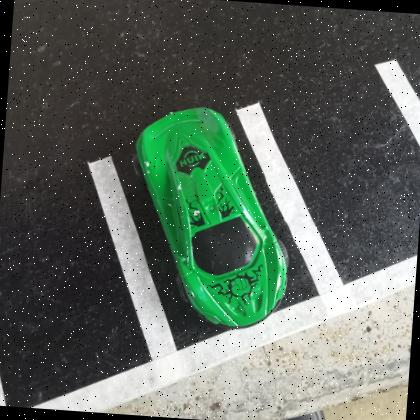Car: (135, 108, 288, 329)
